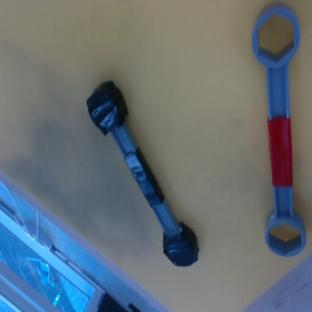part_3_bad: (79, 78, 206, 274)
part_3_good: (251, 2, 306, 257)
